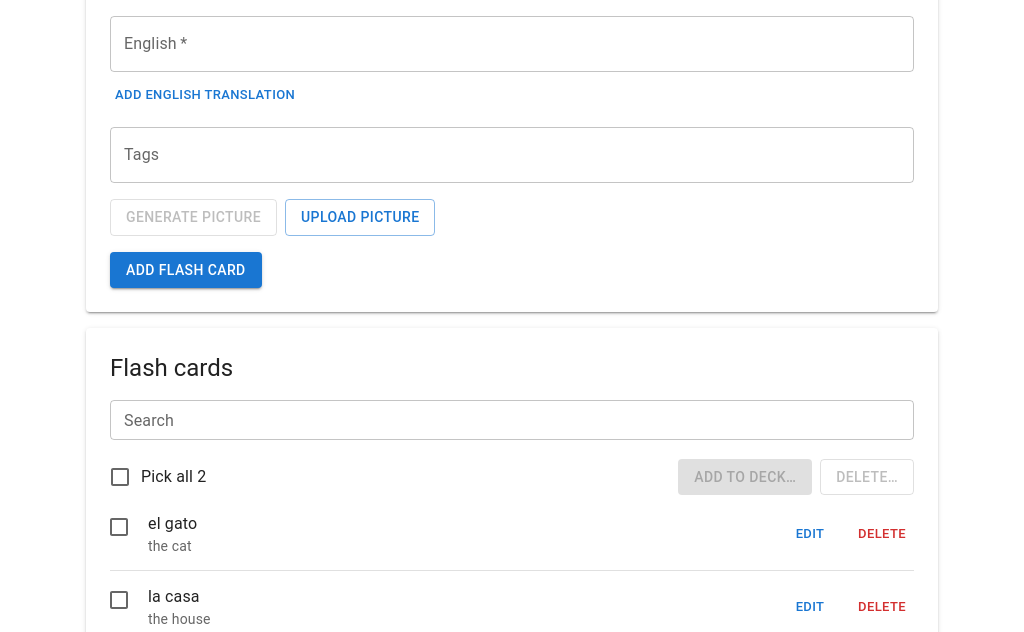
Test: editing a card › saves both changed sides
(page scrolled)
Check: the text "el gato" is shown, box x1=148 y1=514 x2=197 y2=533
Click the button named "Edit \"el gato\"". click: (810, 534)
box: x1=778 y1=519 x2=842 y2=550
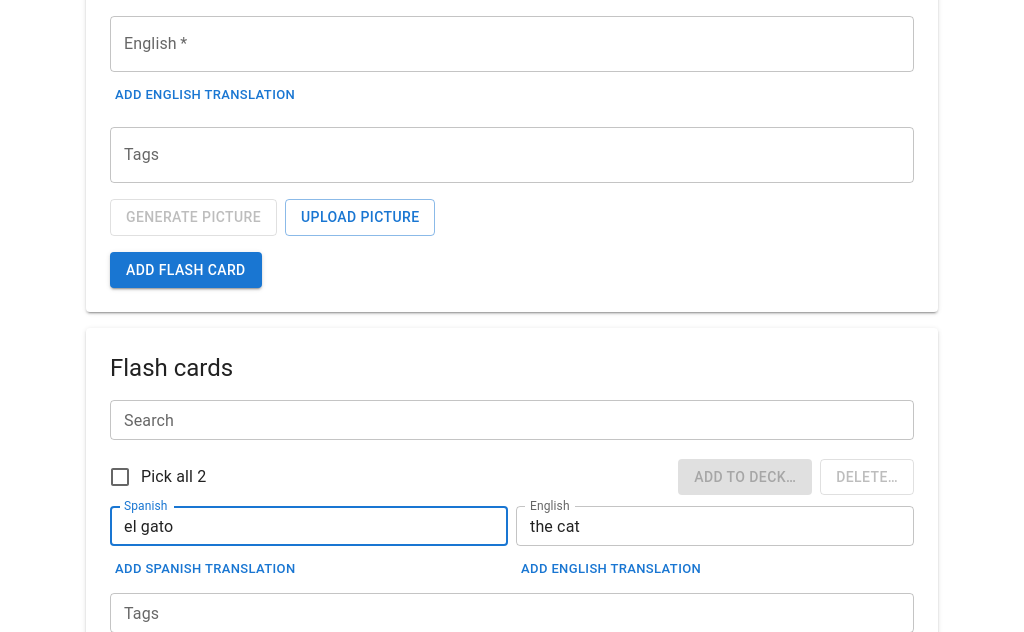
Check: the field labelled "Spanish" holds "el gato"
Check: the field labelled "English" holds "the cat", box x1=516 y1=506 x2=914 y2=546
Replace the text in the field labelled "Spanish" with " el perro ". click: (309, 526)
box: x1=110 y1=506 x2=508 y2=546
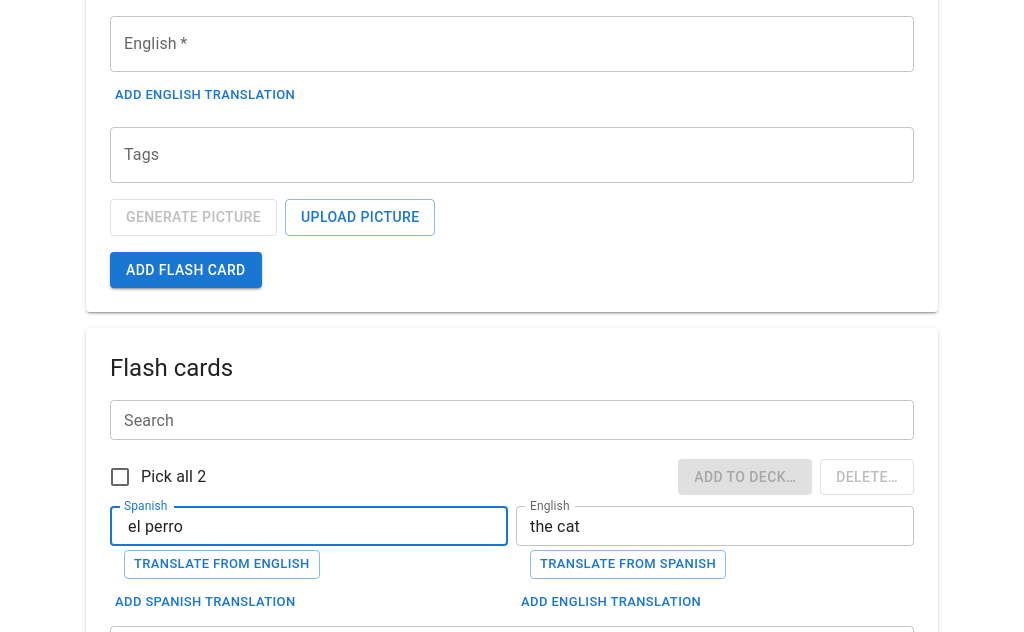
Replace the text in the field labelled "English" with " the dog ". click: (715, 526)
box: x1=516 y1=506 x2=914 y2=546
(page scrolled)
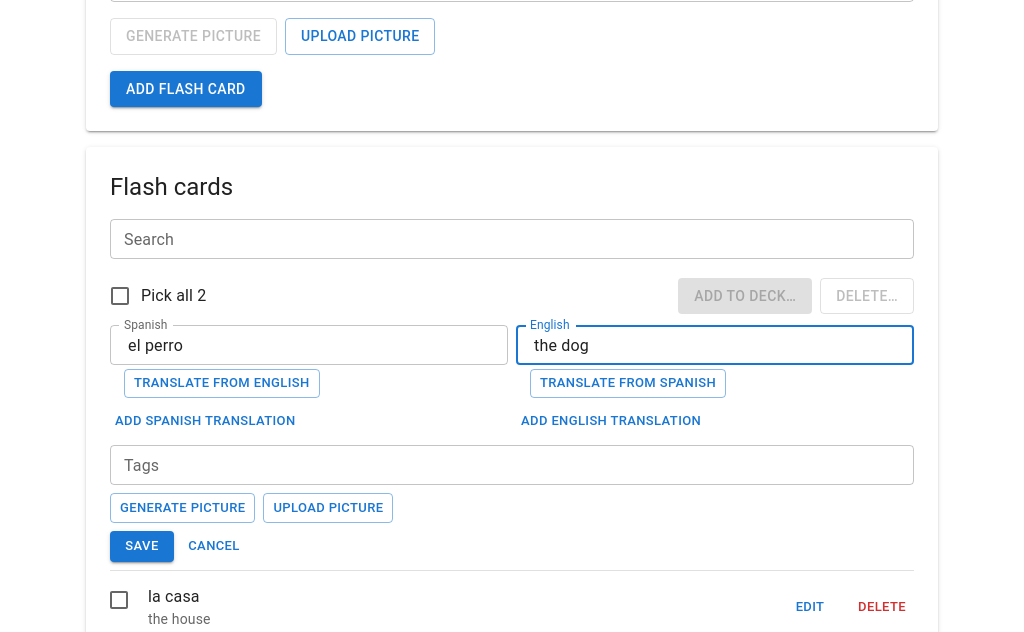
Click the button "Save". click: (142, 547)
box: x1=110 y1=531 x2=174 y2=562
(page scrolled)
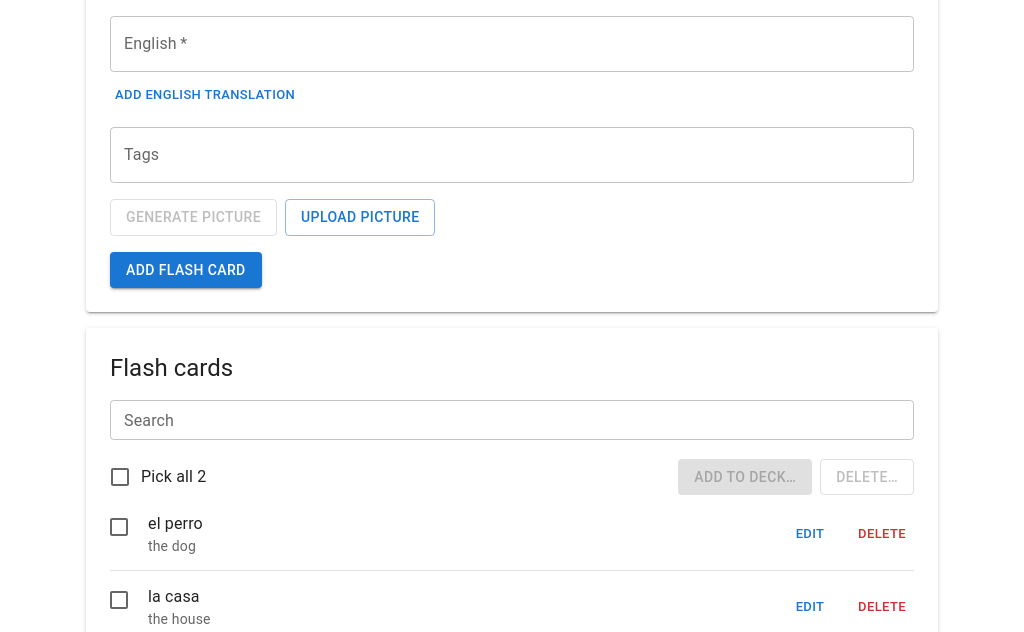
Check: the text "el perro" is shown, box x1=148 y1=514 x2=203 y2=533
Check: the text "the dog" is shown, box x1=148 y1=538 x2=196 y2=554
Check: the button "Save" is gone
